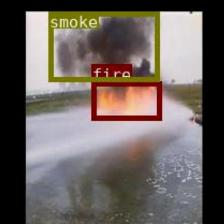fire: (91, 81, 160, 119)
smoke: (48, 11, 159, 81)
